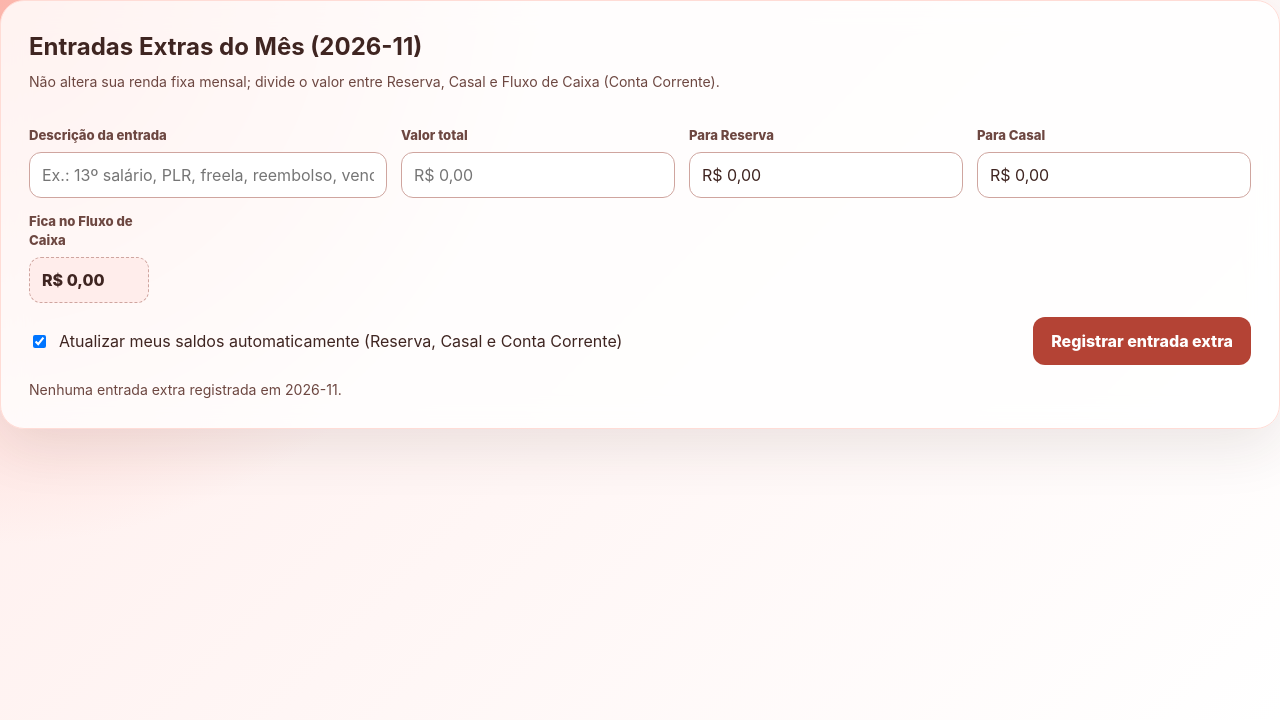
ExtraIncomesSection › calcula automaticamente o restante no Fluxo de Caixa e envia alocação completa ao salvar
Later steps or results of the test are not shown.
Type "13º Salário" into the field labelled "Descrição da entrada" at (208, 175), box [29,152,387,198]
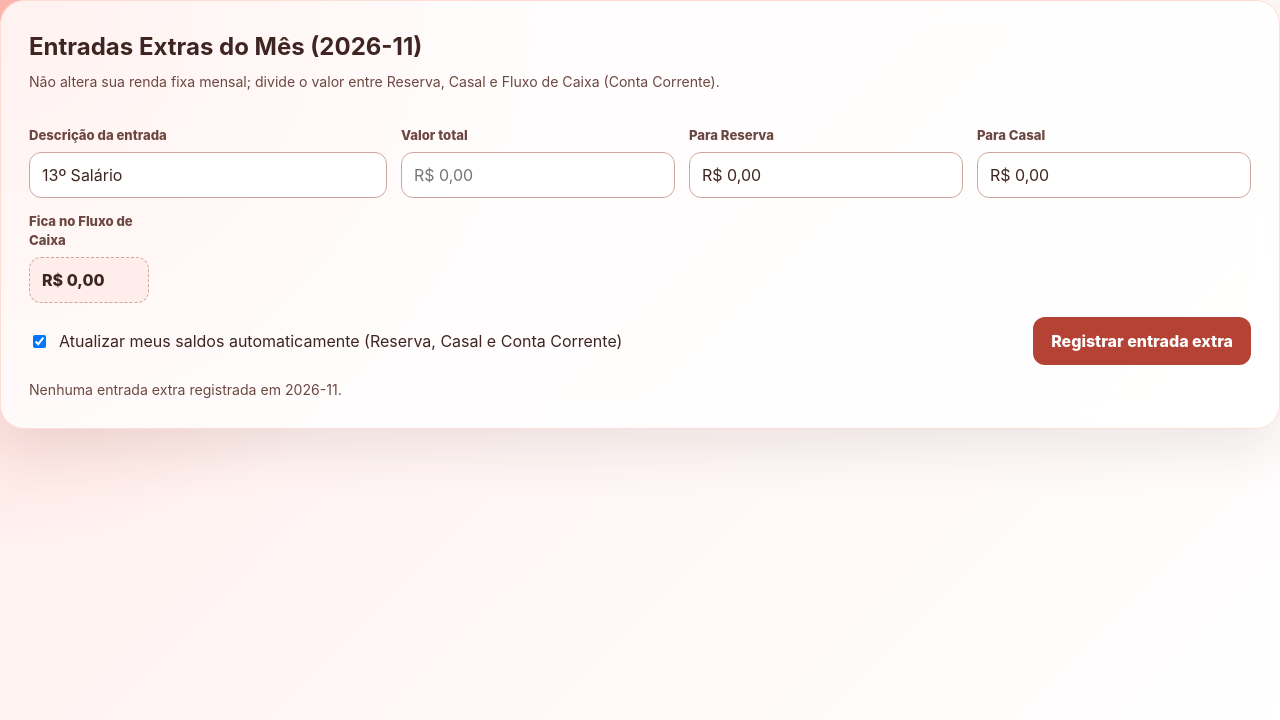
Type "300000" into the field labelled "Valor total" at (538, 175), box [401,152,675,198]
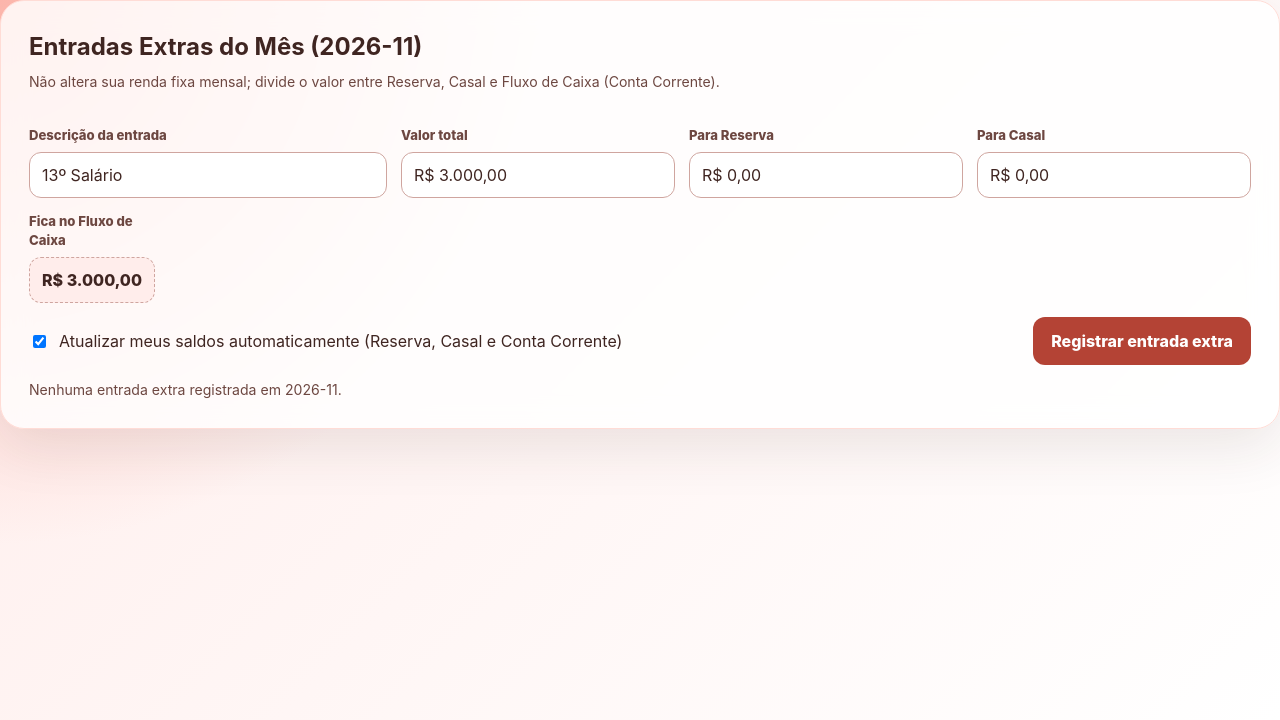
Type "100000" into the field labelled "Para Reserva" at (826, 175), box [689,152,963,198]
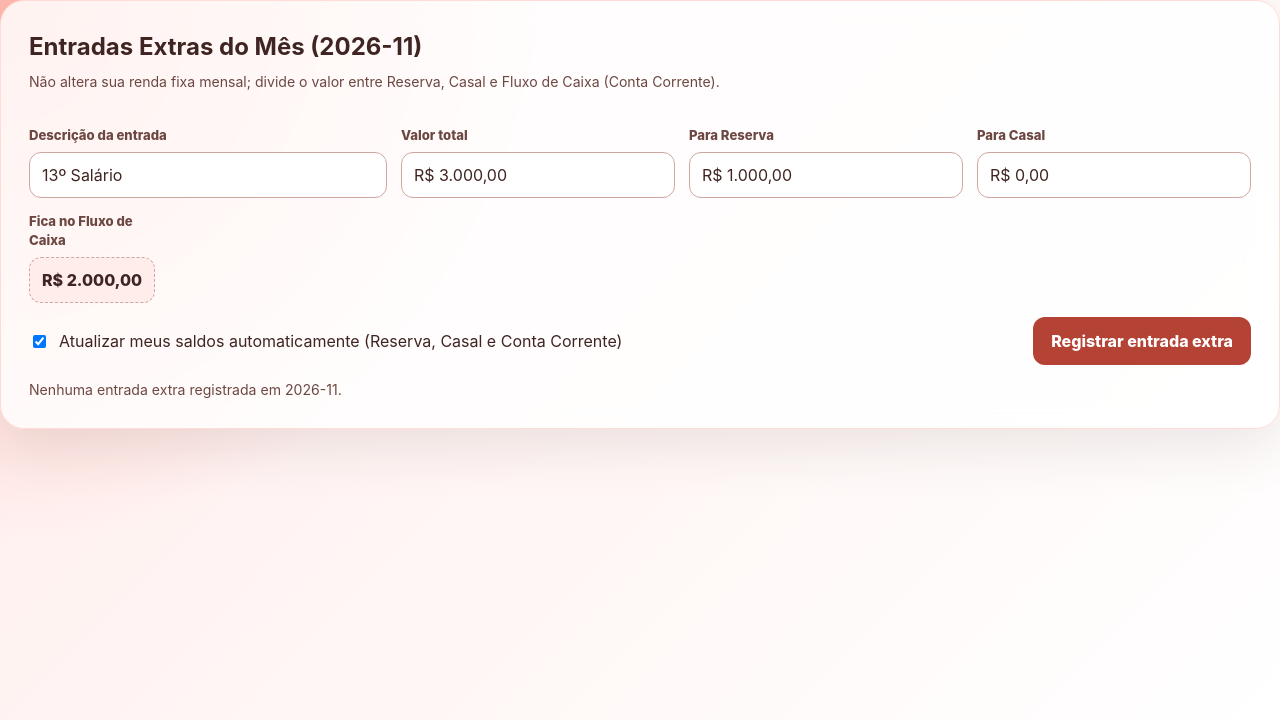
Type "50000" into the field labelled "Para Casal" at (1114, 175), box [977,152,1251,198]
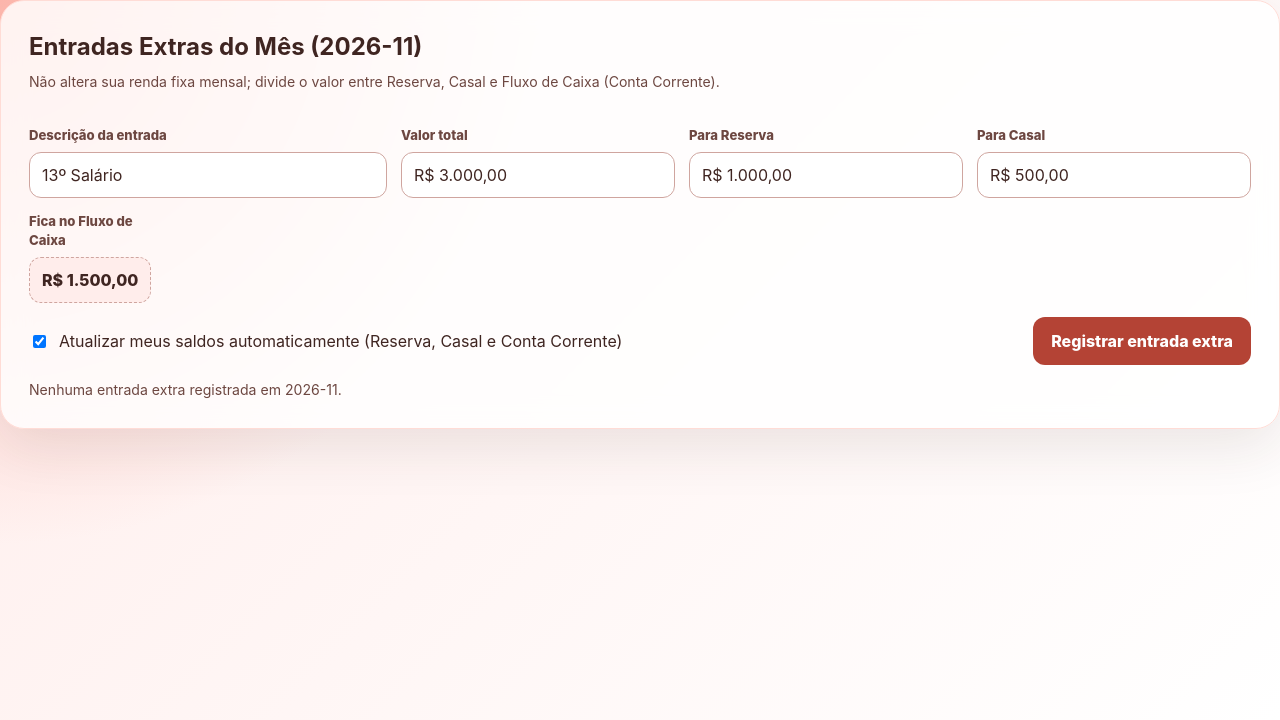
Expected: the text with test id "extra-to-checking" shows "1.500,00", [42,270,138,290]
